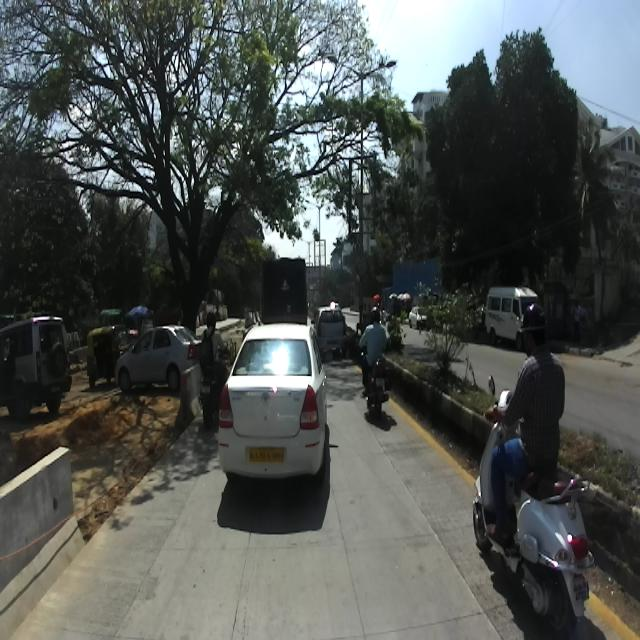car ahead at: (222, 314, 328, 494)
motorcycle ahead at: (472, 467, 595, 628)
